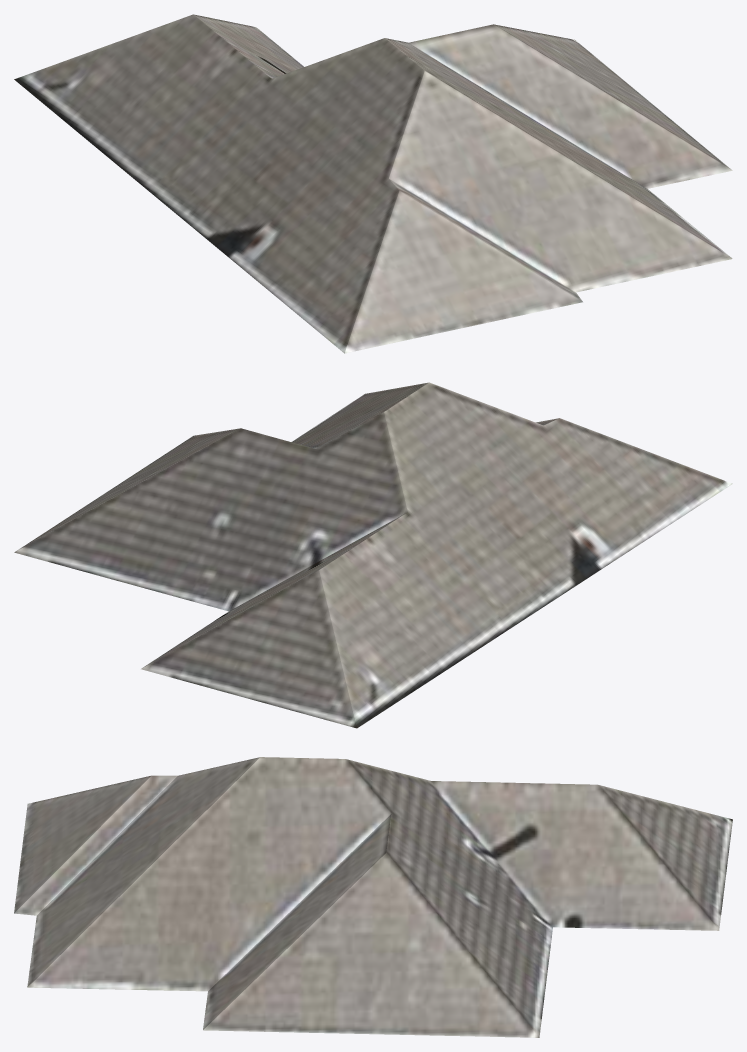
Rendered from CG10_500_048071_0013_roof.obj.
3 views of the same model, one above another, from view 1: azimuth 30°, elevation 25°; view 2: azimuth 150°, elevation 25°; view 3: azimuth 270°, elevation 25° (orthographic). The views are drawn at different scales.
Parts seen in each view (by area): view 1: CG10_500_048071_0013_roof; view 2: CG10_500_048071_0013_roof; view 3: CG10_500_048071_0013_roof.
Boxes of the visible parts, x1=… form: CG10_500_048071_0013_roof: x1=14, y1=14, x2=732, y2=353; CG10_500_048071_0013_roof: x1=14, y1=382, x2=732, y2=728; CG10_500_048071_0013_roof: x1=14, y1=757, x2=732, y2=1037.
Bounding box in the file's own units: 248 × 70 × 322.
1 material, 1 textured.
